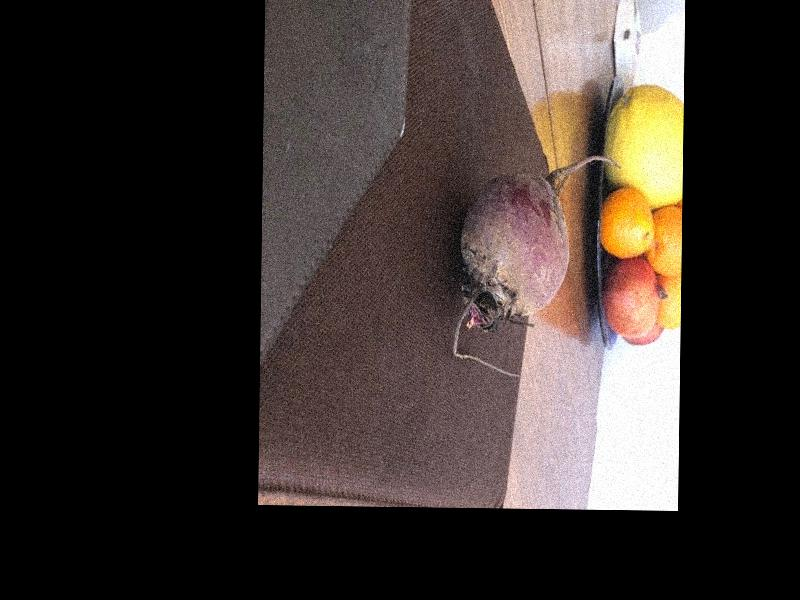Beet: (452, 152, 622, 379)
